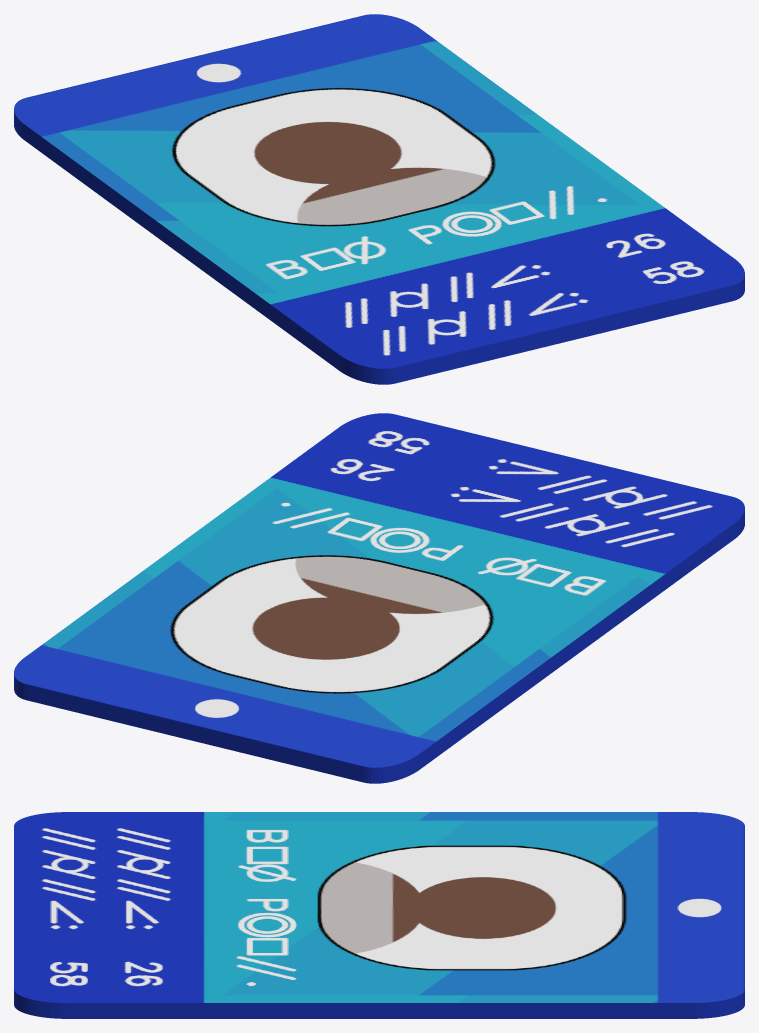
Rendered from Keycard.fbx.
3 views of the same model, one above another, from view 1: azimuth 30°, elevation 25°; view 2: azimuth 150°, elevation 25°; view 3: azimuth 270°, elevation 25° (orthographic).
Parts seen in each view (by area): view 1: Cube; view 2: Cube; view 3: Cube.
Boxes of the visible parts, x1=… form: Cube: x1=14, y1=14, x2=744, y2=384; Cube: x1=14, y1=413, x2=744, y2=783; Cube: x1=14, y1=812, x2=744, y2=1018.
Size of the model in its own units: 124 by 4.77 by 200.
2 materials, 1 textured.
